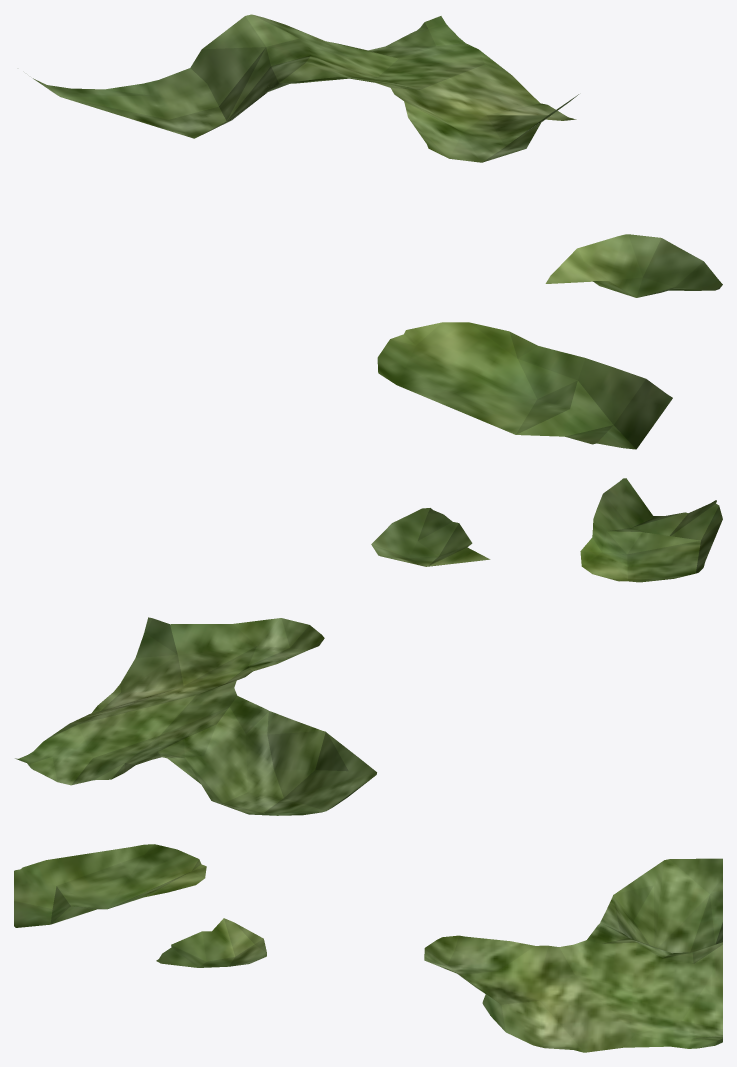
3 views of the same model, one above another, from view 1: azimuth 30°, elevation 25°; view 2: azimuth 150°, elevation 25°; view 3: azimuth 270°, elevation 25° (orthographic). The views are drawn at different scales.
Bounding box in the file's own units: 1.58 × 0.2297 × 2.95.
Materials: 1 (1 with a texture image).
